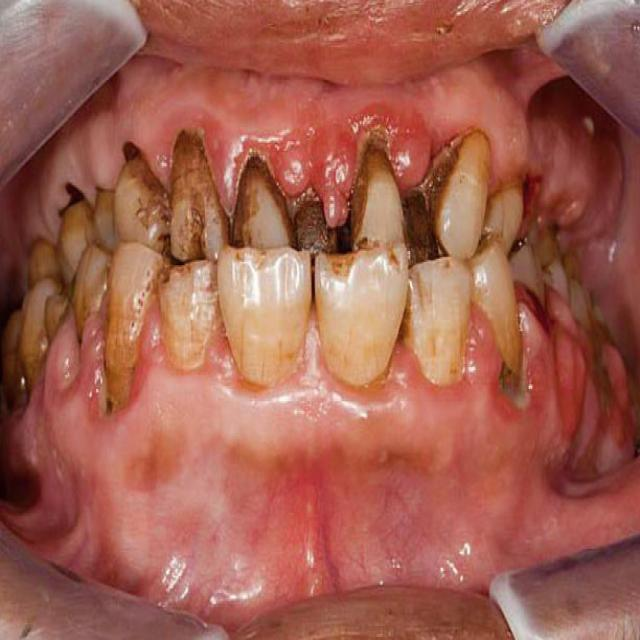caries: (54, 172, 91, 218), (117, 128, 150, 177), (100, 388, 124, 422)
